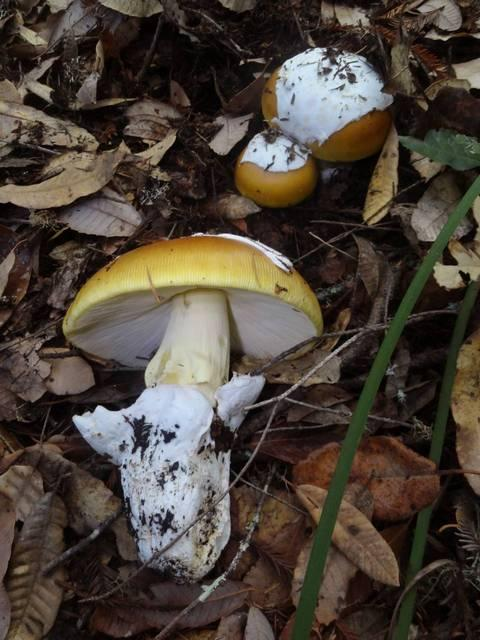edible_mushroom: (61, 231, 324, 584), (233, 44, 394, 207), (233, 126, 318, 208)
